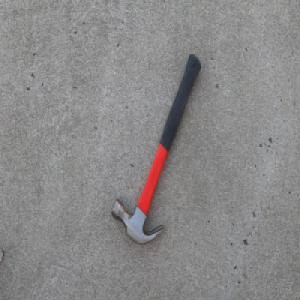Hammer: (109, 52, 201, 246)
